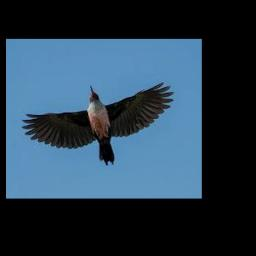Woodpecker: (22, 82, 173, 165)
